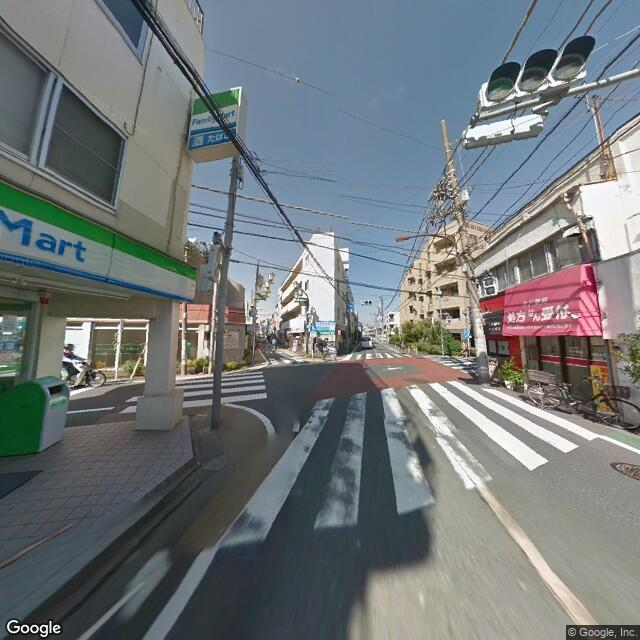family_mart: (1, 180, 199, 303), (190, 86, 244, 146)
